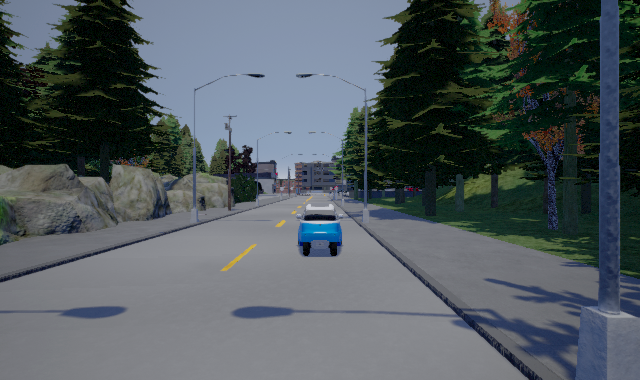vehicle: (296, 202, 345, 256)
